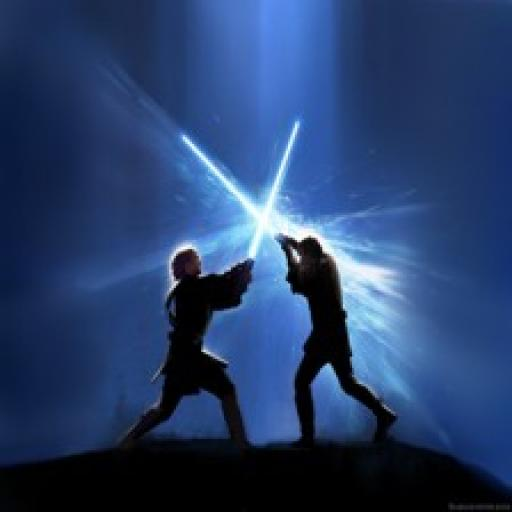human: (119, 235, 256, 450), (273, 220, 405, 442)
lightsaber: (182, 135, 295, 249), (242, 118, 302, 274)
